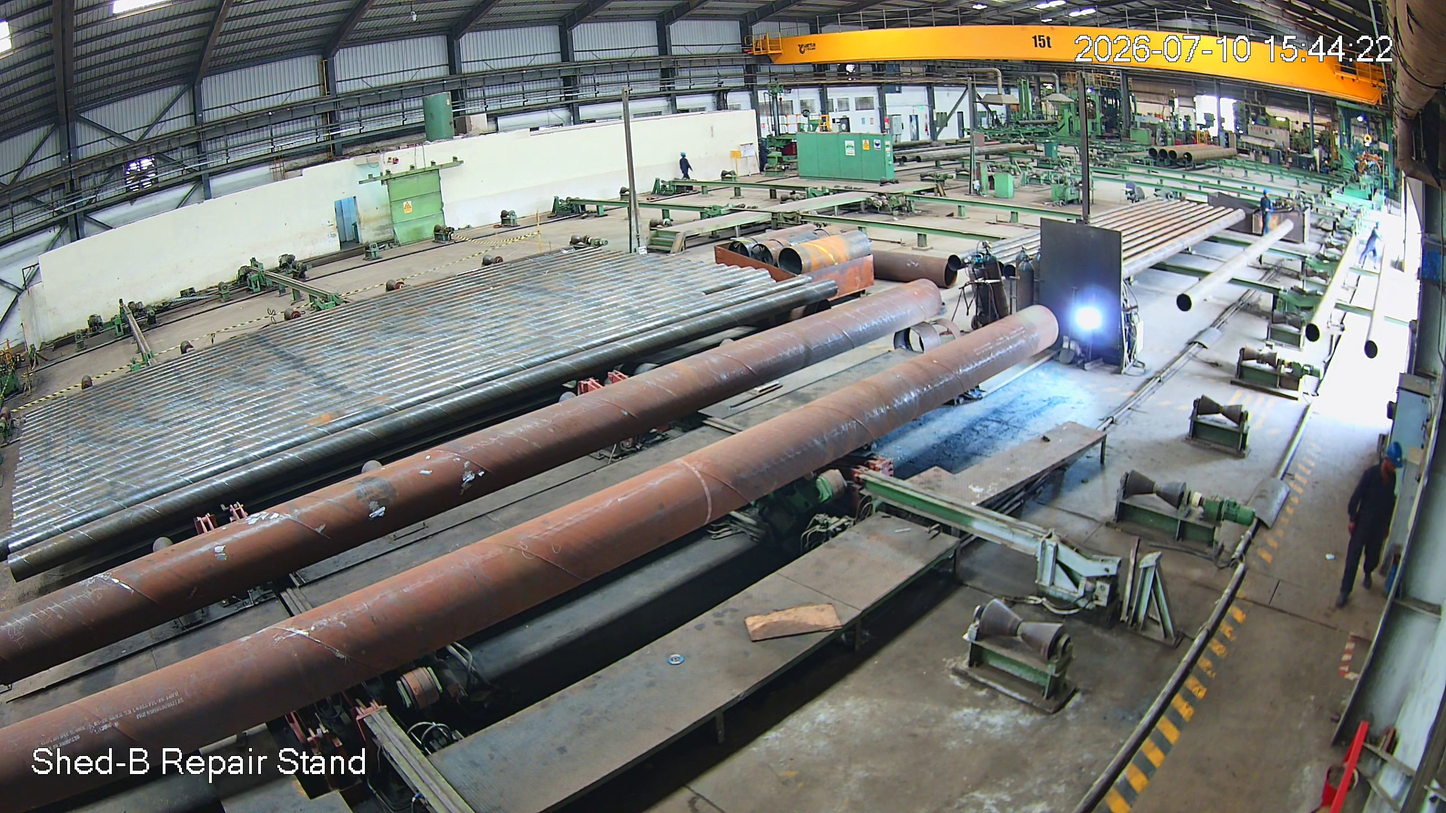Helmet: (1366, 429, 1413, 490)
Person: (1354, 437, 1416, 597)
